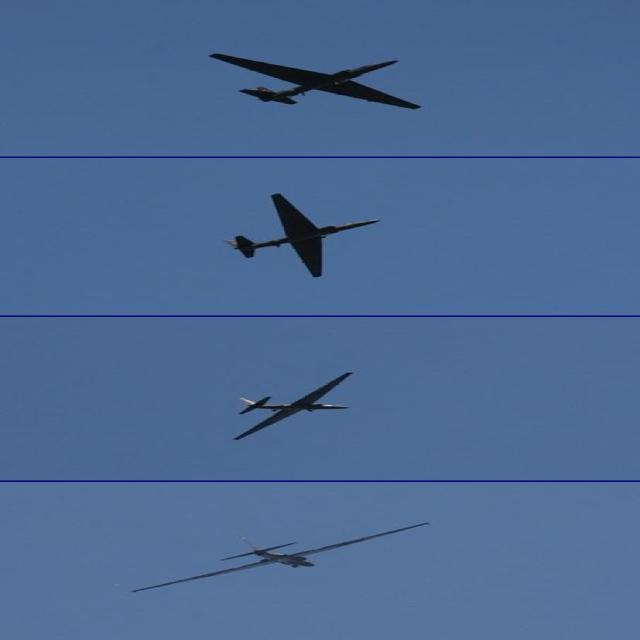MIL_Plane: (132, 522, 432, 592), (222, 193, 383, 277), (208, 53, 422, 110), (233, 372, 355, 440)
